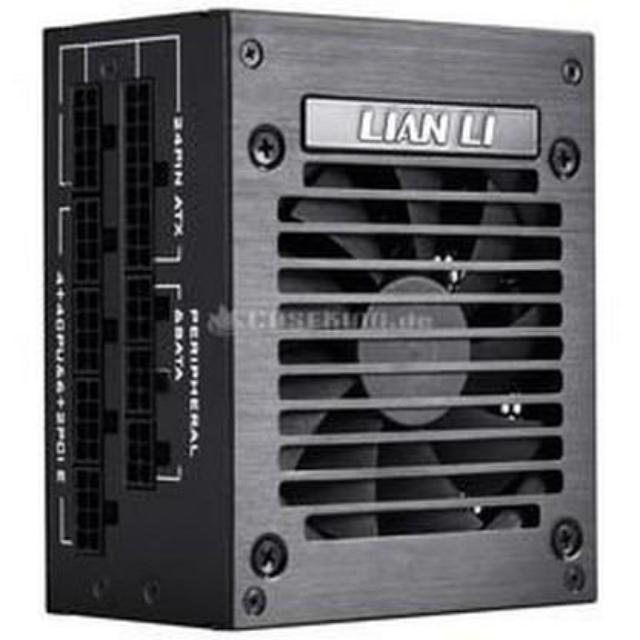PSU: (33, 3, 618, 640)
